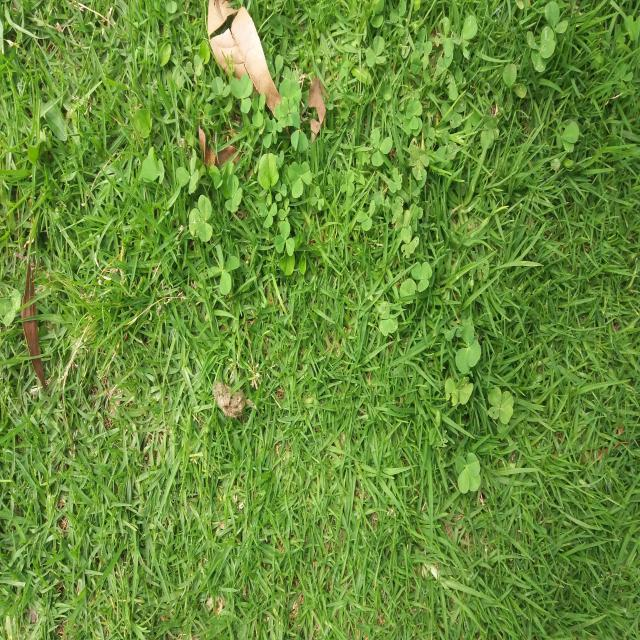Four Leaf Clover: (208, 244, 240, 295), (527, 26, 555, 72), (455, 452, 481, 494), (488, 387, 514, 424)
